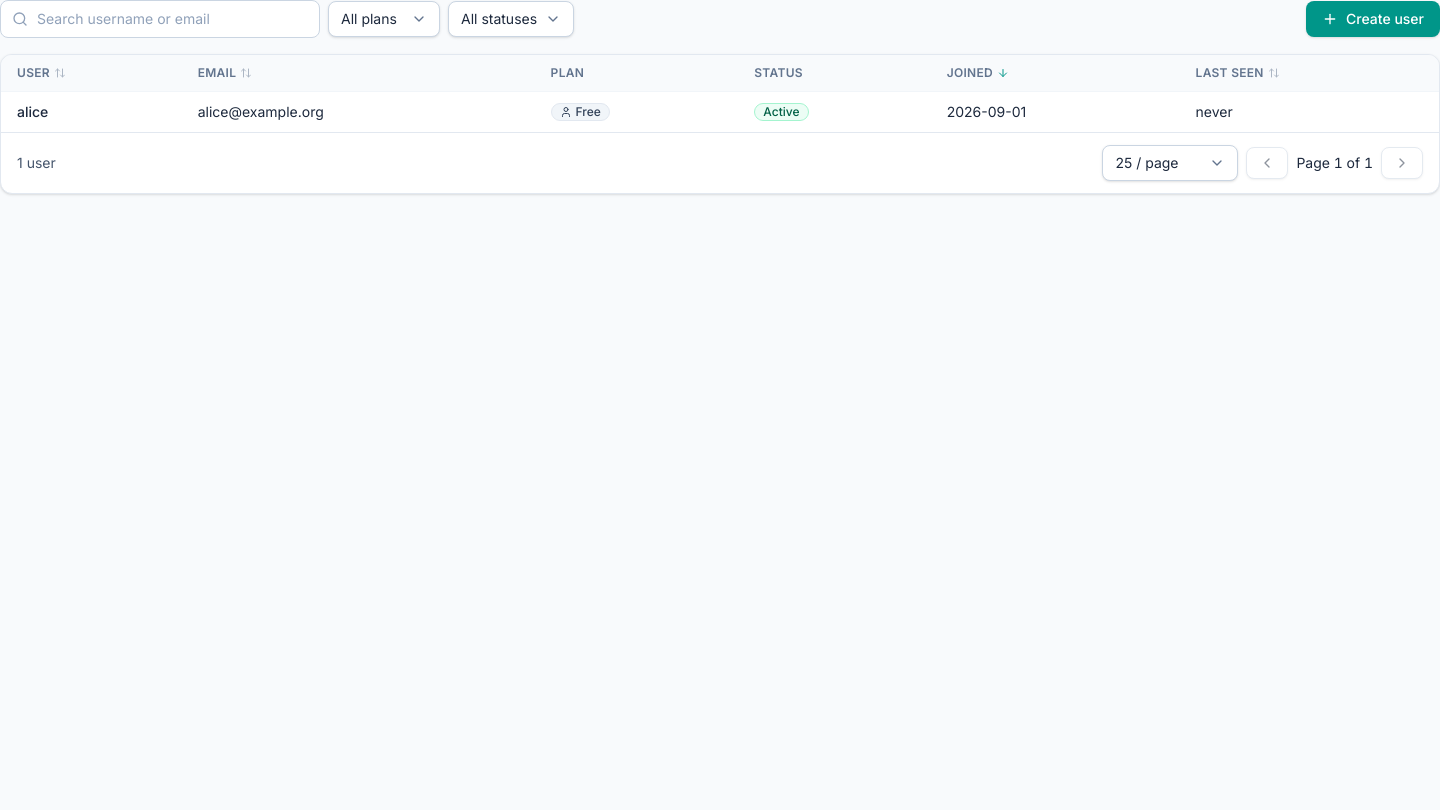
Test: UsersPage › creates a user and shows the temporary password once with a copy button
This screenshot has width=1440, height=810.
expect the text "alice" is shown: met, box [17,103,48,120]
Click the button "Create user" at (1373,19), box [1306,1,1439,37]
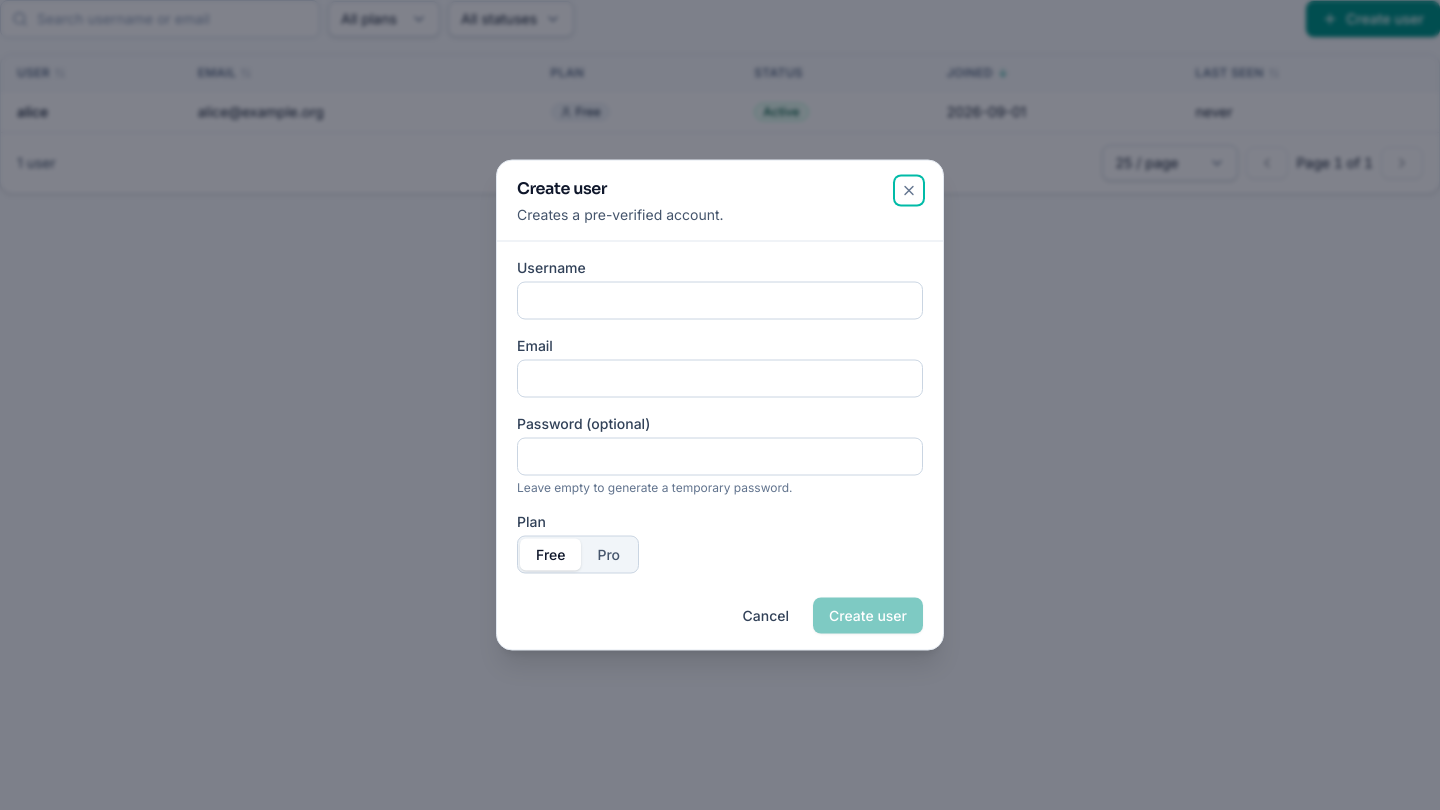
Type "newbie" into the field labelled "Username" at (720,300), box [517,282,923,320]
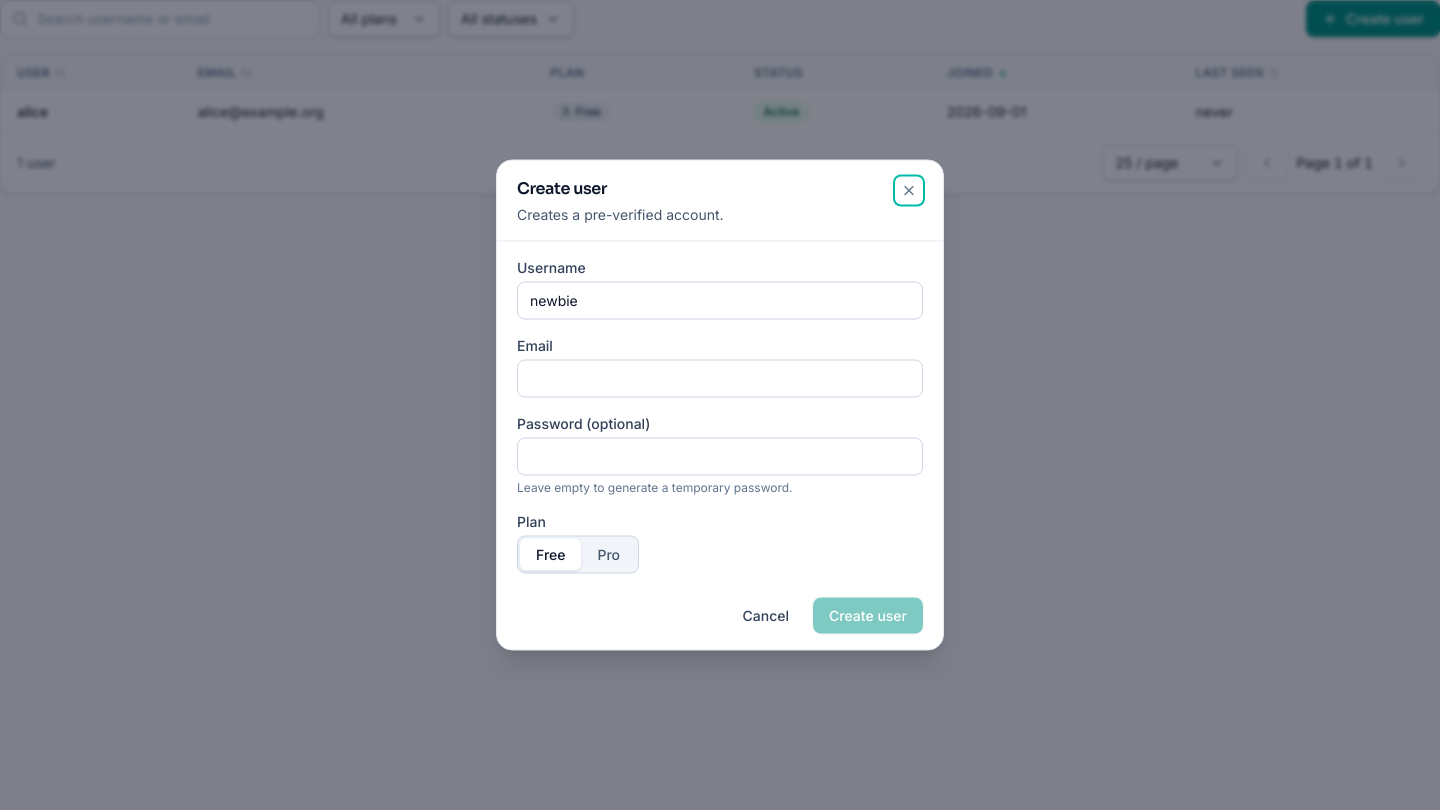
Type "n@example.org" into the field labelled "Email" at (720,378), box [517,360,923,398]
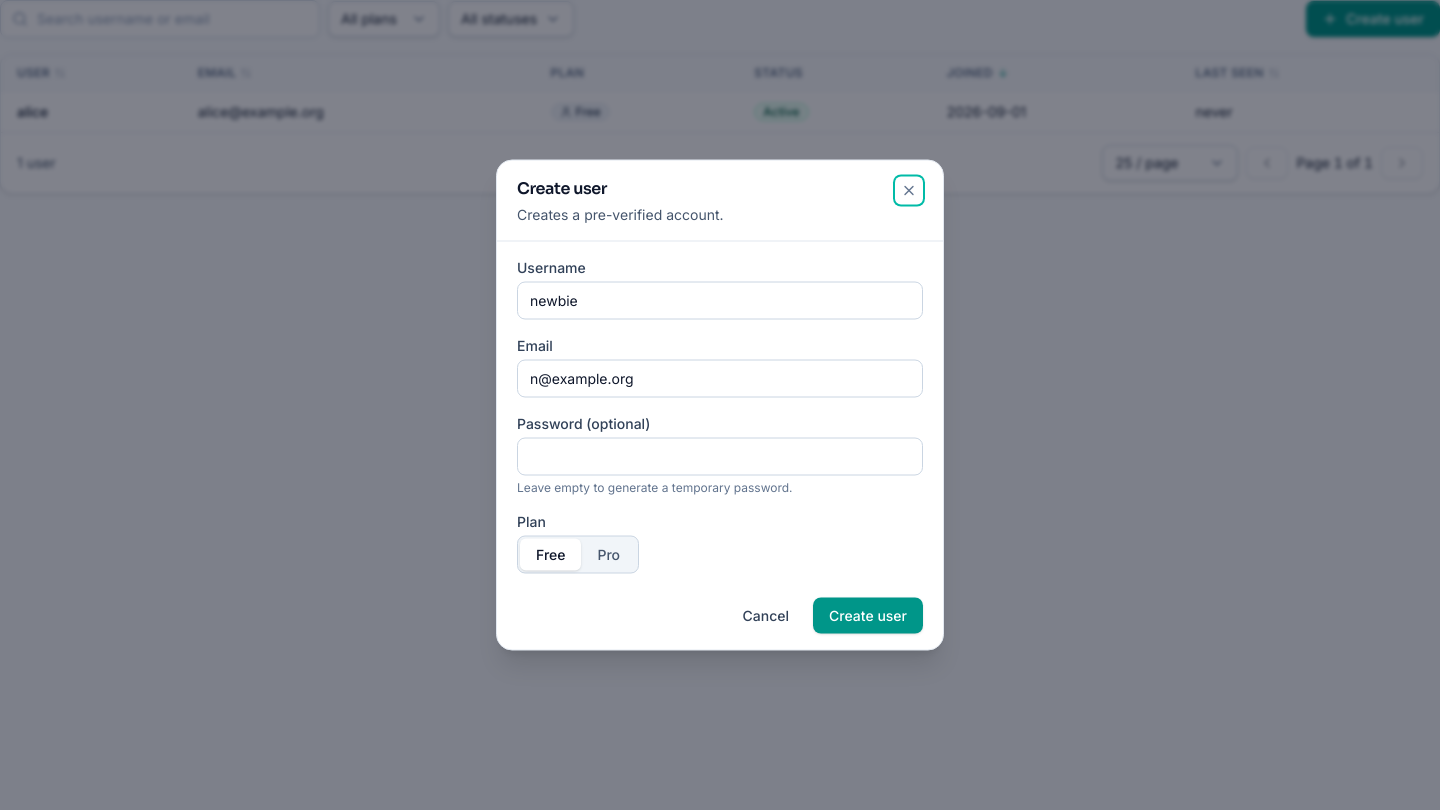
Click the button "Create user" at (868,616), box [813,598,923,634]
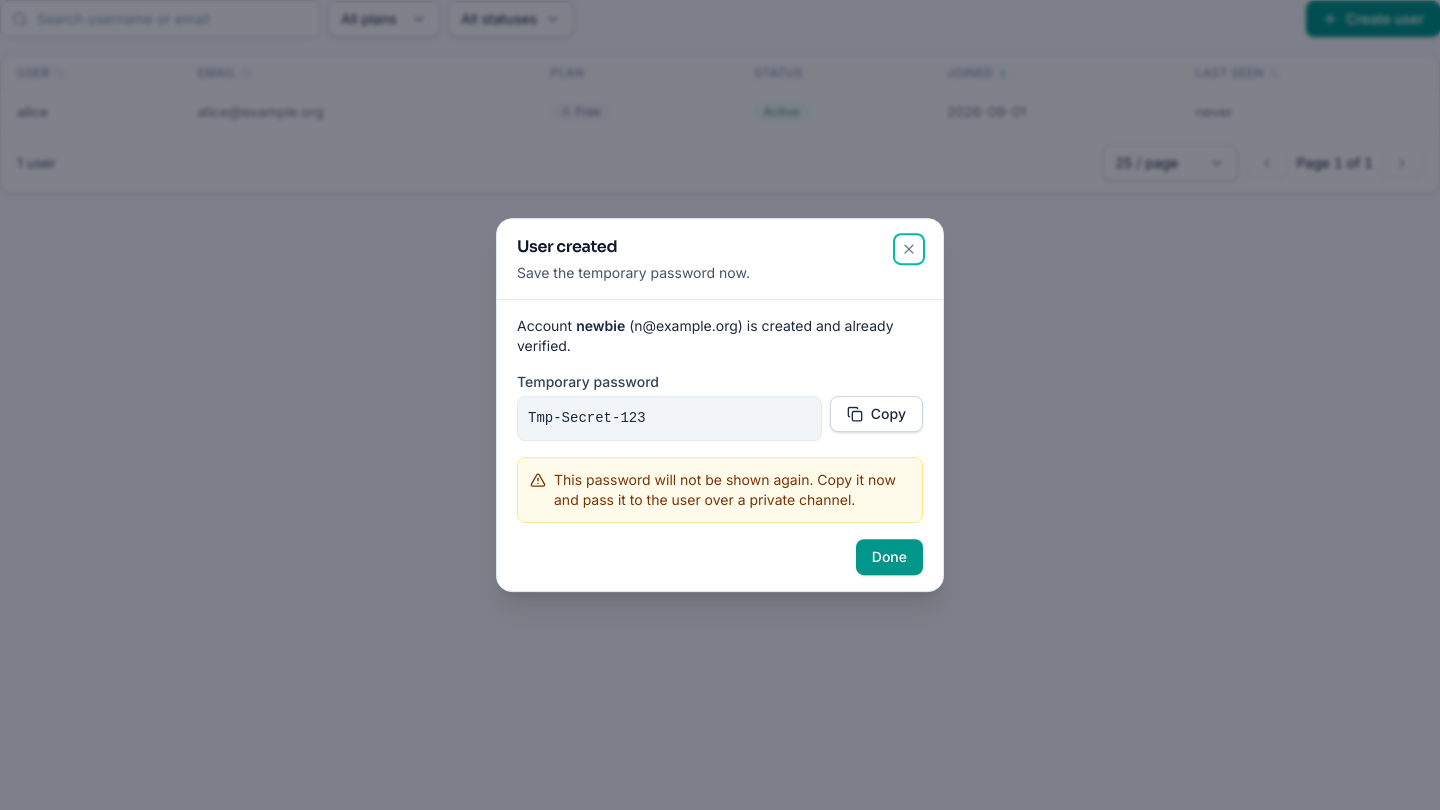
expect the text with test id "temp-password" reads "Tmp-Secret-123": met, box [528,410,646,426]
expect the text "will not be shown again" is shown: met, box [554,471,896,508]
Click the button with aria-label "Copy password" at (876,414), box [830,396,923,432]
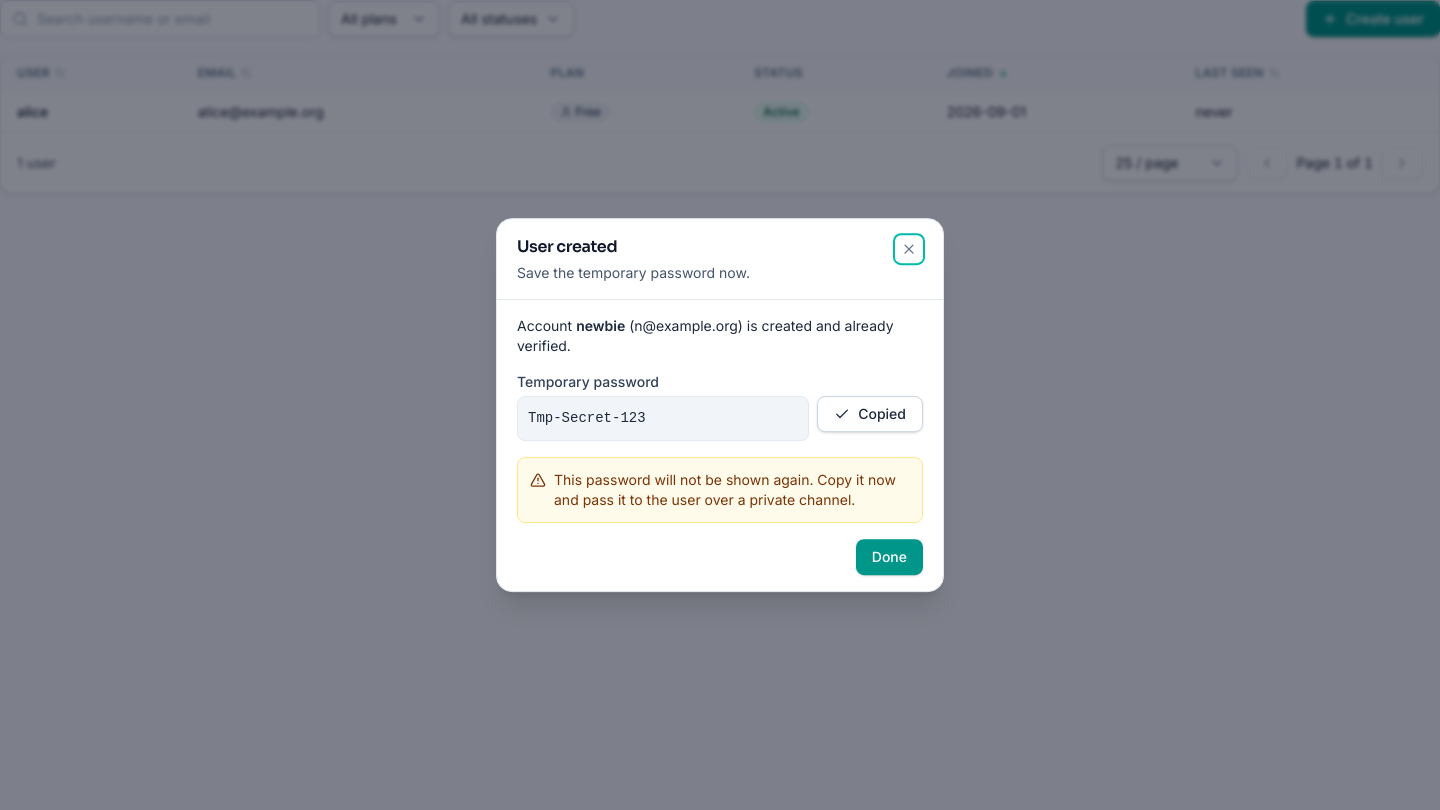
Click the button "Done" at (889,557), box [856,539,923,575]
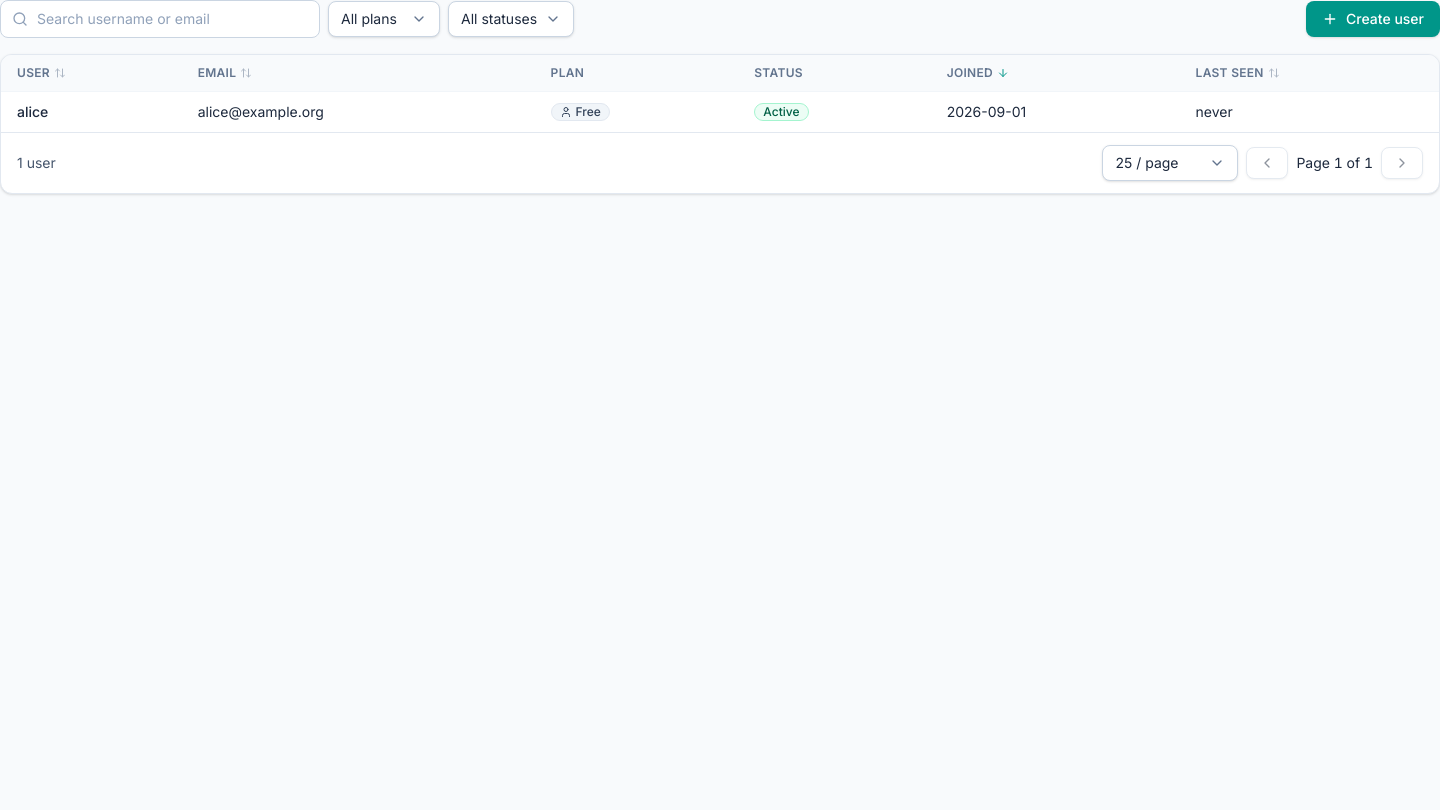
expect the text with test id "temp-password" is gone: met
expect the text "Tmp-Secret-123" is gone: met
